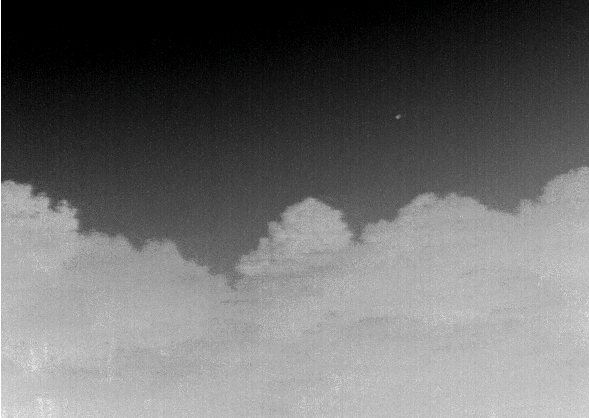dim target: (394, 114, 401, 120)
